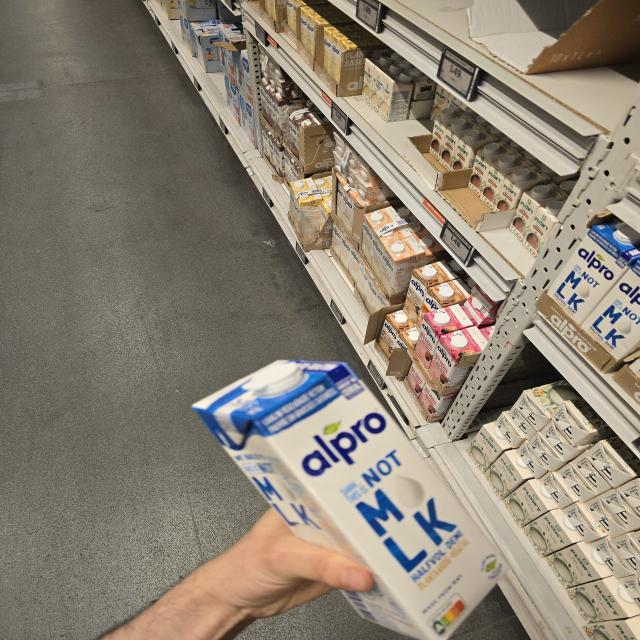Milk: (190, 358, 511, 640), (546, 221, 640, 326), (578, 258, 640, 362)
